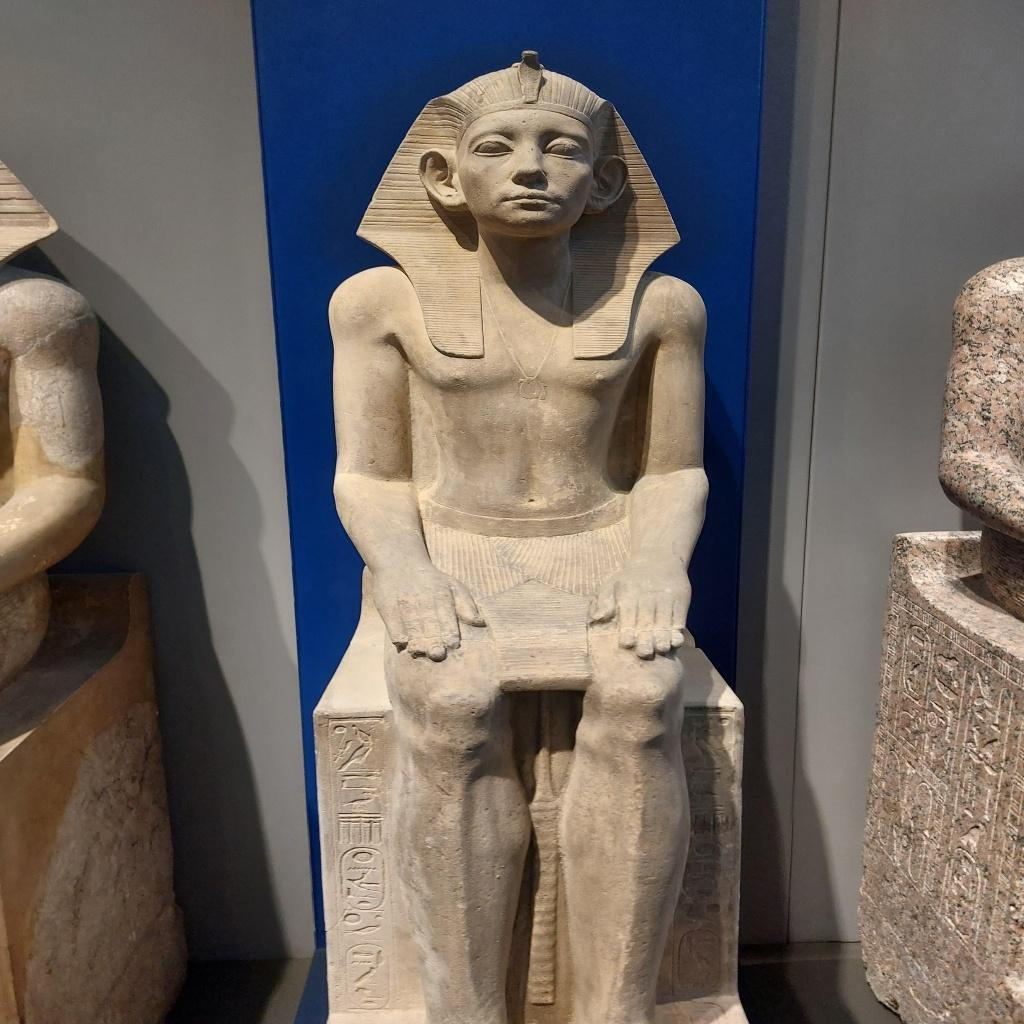King Amenemhat 3: (322, 49, 720, 1021)
